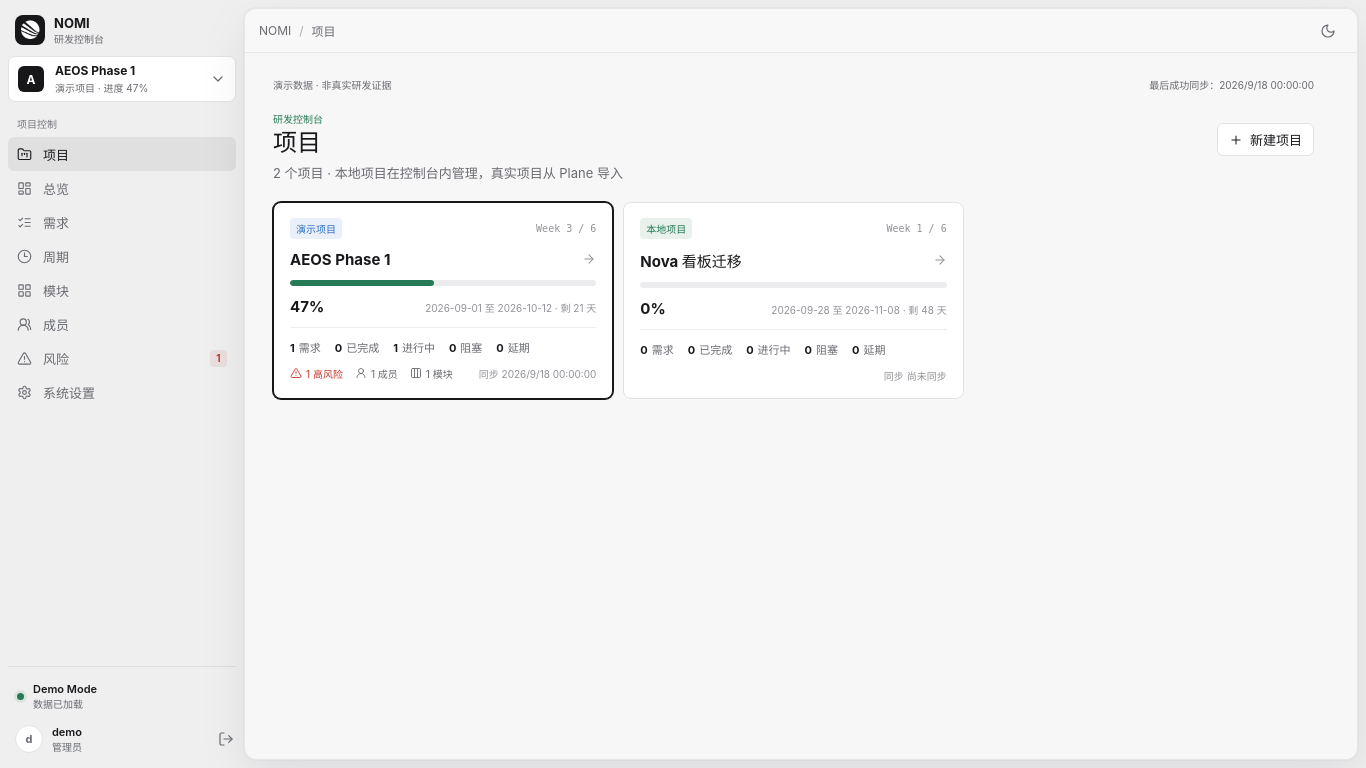
it: data-backed console › creates a local project from the projects hub and lands on it
Click the button "新建项目" at (1266, 140), box [1217,123,1314,156]
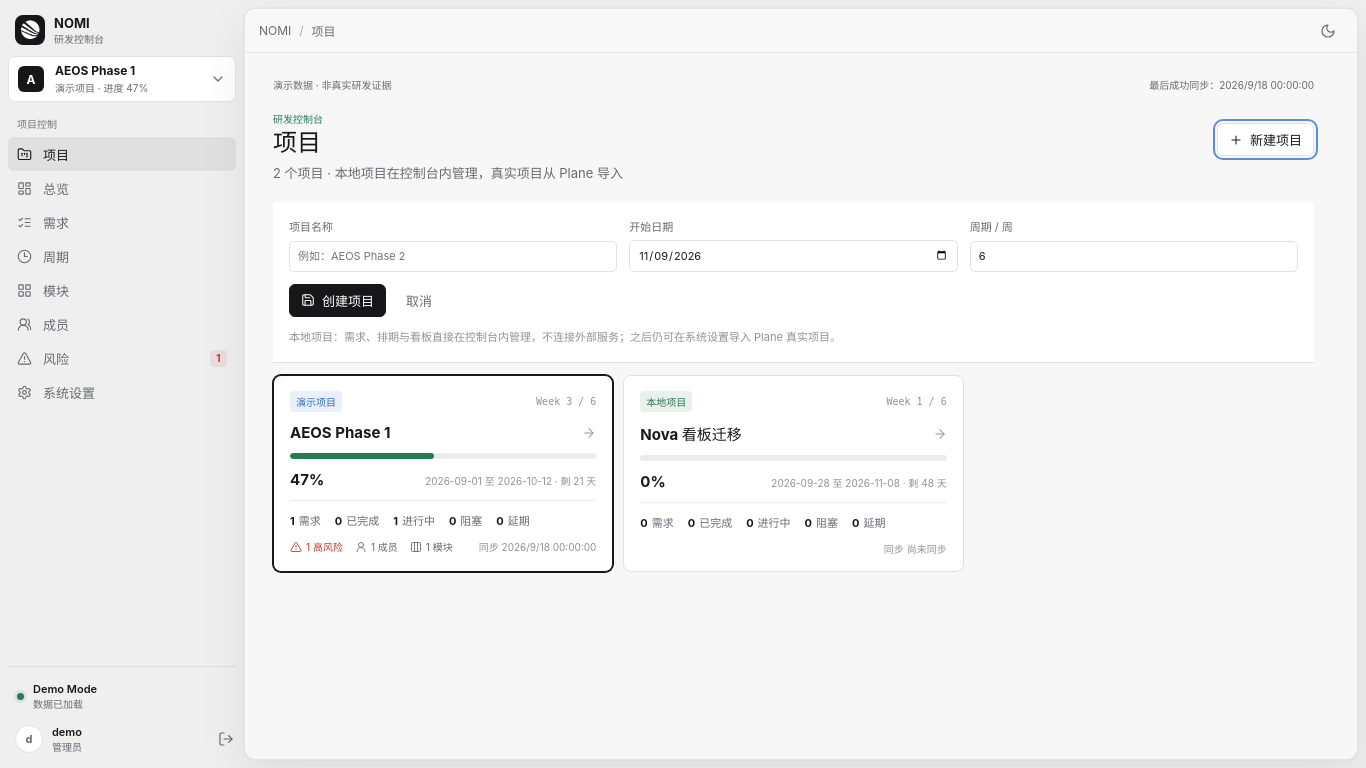
Type "Nova 看板迁移" into the field labelled "项目名称" at (453, 256), box [289,241,617,272]
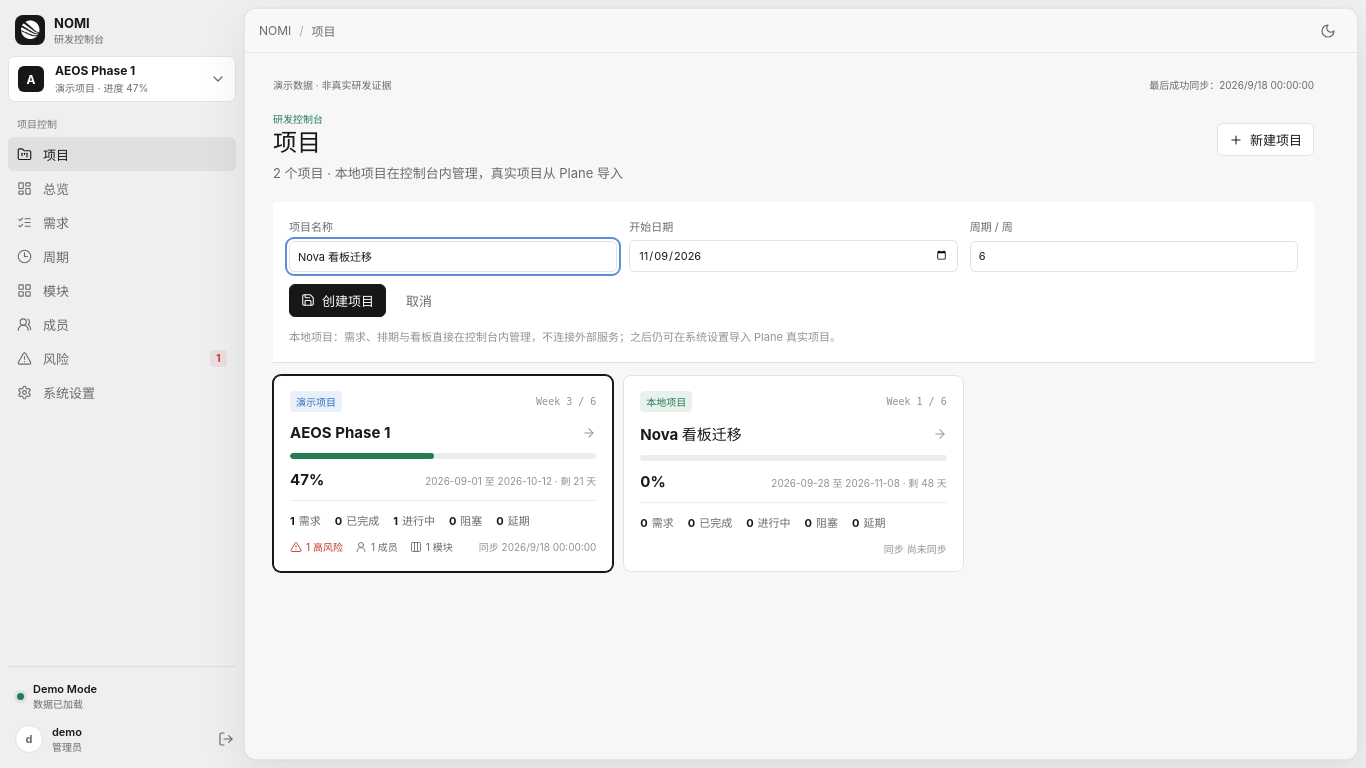
Click the button "创建项目" at (338, 300), box [289,284,386,317]
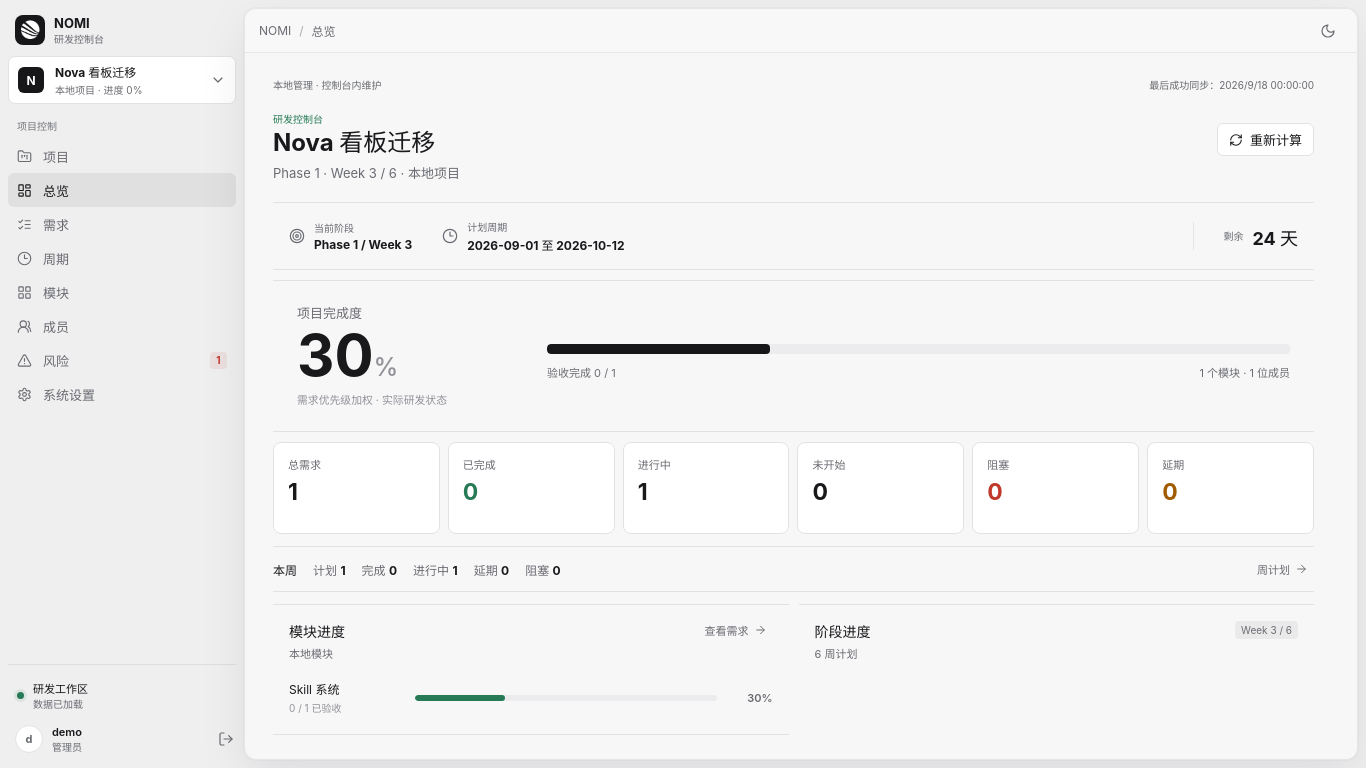
Expected: the heading "Nova 看板迁移" is shown, [273,129,460,158]
Expected: the text "本地管理 · 控制台内维护" is shown, [273,77,382,92]
